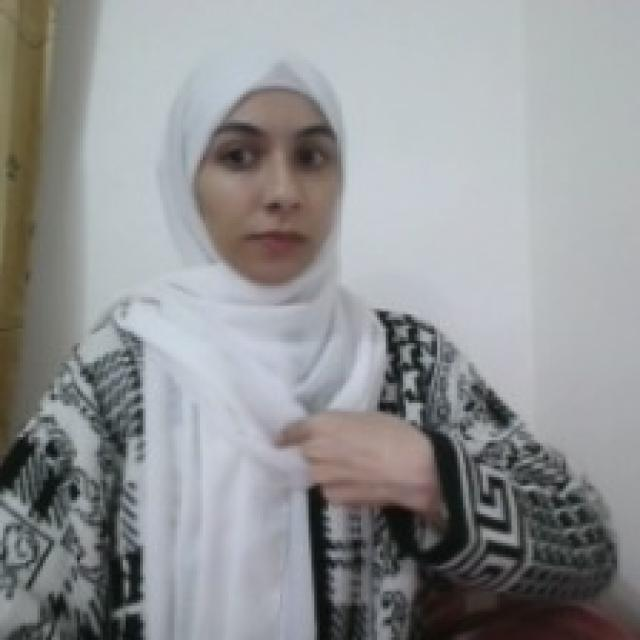me: (263, 401, 438, 520)
